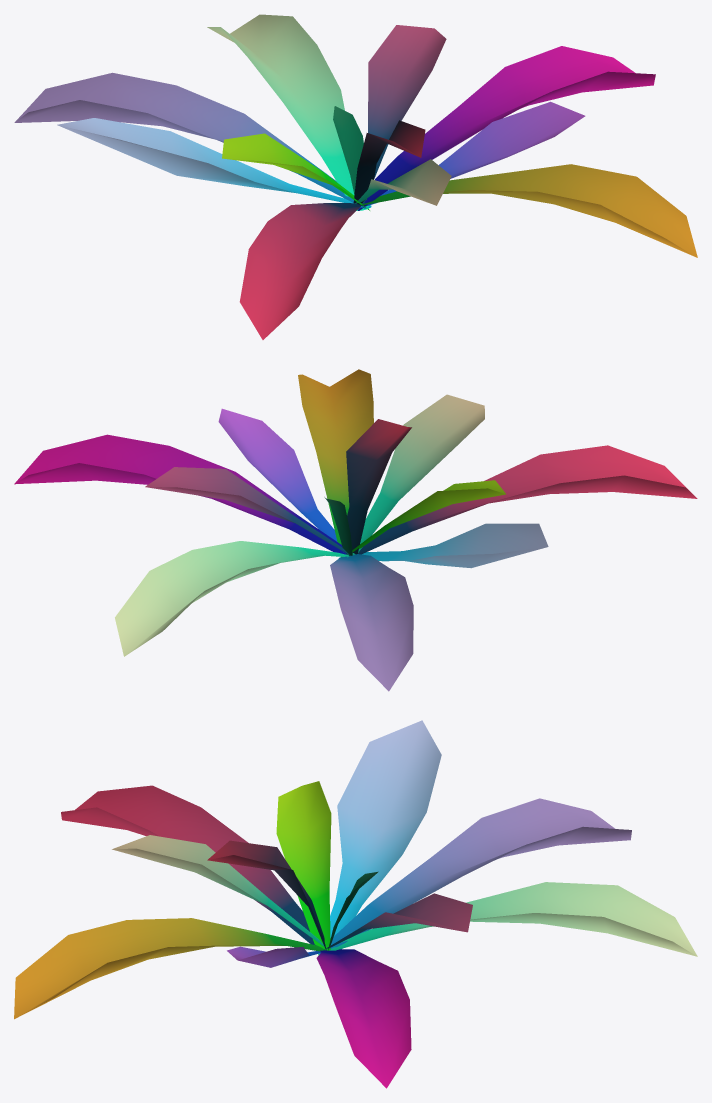
Rendered from Curbside_Weeds_ujzjfexja_Mid_ujzjfexja_VarJ_LOD0.fbx.
The picture shows the model from 3 angles, top to bottom: view 1: azimuth 30°, elevation 25°; view 2: azimuth 150°, elevation 25°; view 3: azimuth 270°, elevation 25°; orthographic projection. The views are drawn at different scales.
Parts seen in each view (by area): view 1: _wvkq_VarJ_LOD1; view 2: _wvkq_VarJ_LOD1; view 3: _wvkq_VarJ_LOD1.
Part boxes in pixels (x1,y1,x2,y2): _wvkq_VarJ_LOD1: (14, 14, 697, 339); _wvkq_VarJ_LOD1: (14, 369, 697, 691); _wvkq_VarJ_LOD1: (14, 720, 697, 1088).
Size of the model in its own units: 28.32 by 5.27 by 29.19.
